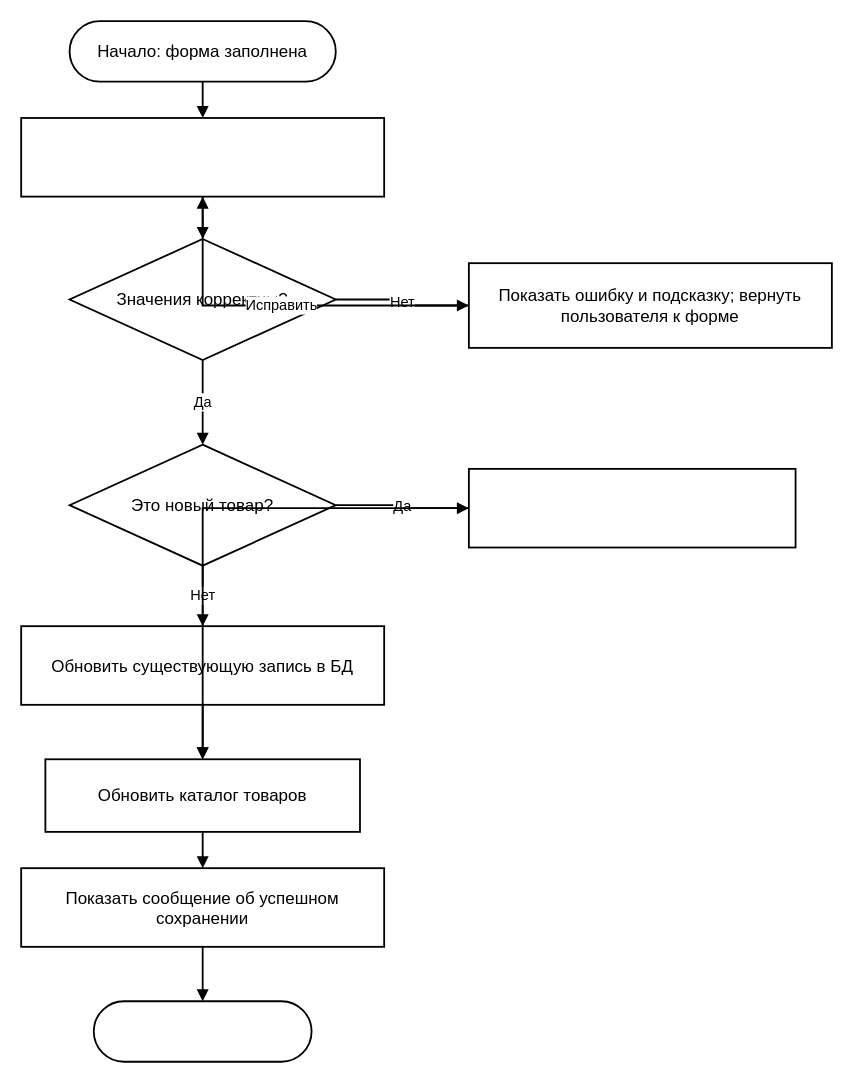
Some shapes in this 854 by 1084 pixel diagram are drawn without their labels. The centre of each missing label's shape, as x and y in pixels:
Вычислить следующий ID и добавить запись: point (631, 507)
Конец: point (202, 1031)
Проверить обязательные поля, цену и остаток: point (202, 157)
